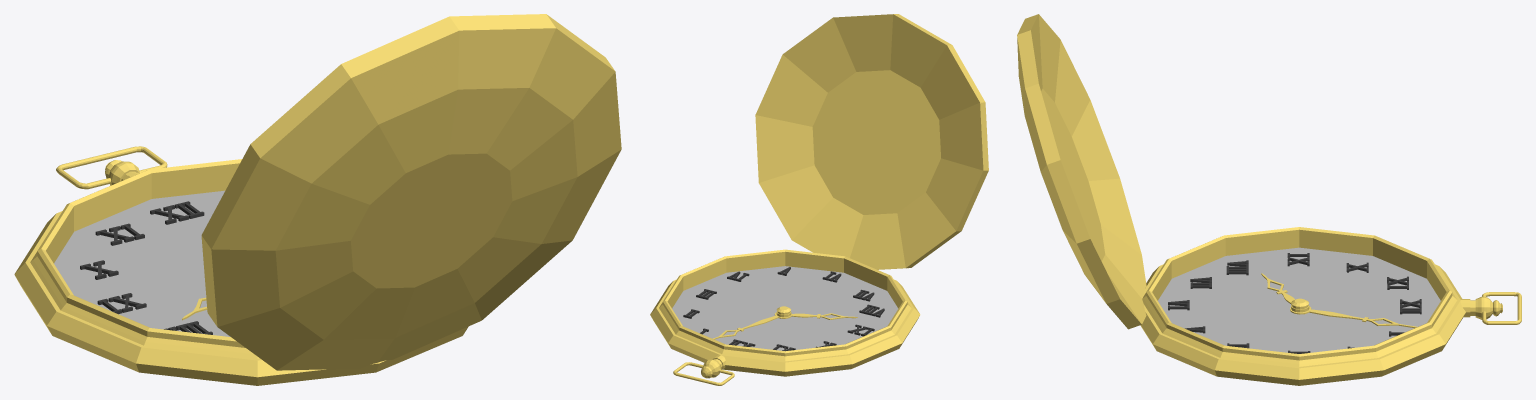
Rendered from SM_Watch.fbx.
3 renders of one model, left to right at view 1: azimuth 30°, elevation 25°; view 2: azimuth 150°, elevation 25°; view 3: azimuth 270°, elevation 25°, orthographic. The views are drawn at different scales.
Visible parts, largest first — view 1: Watch; view 2: Watch; view 3: Watch.
Boxes of the visible parts, x1=… form: Watch: x1=14, y1=14, x2=621, y2=385; Watch: x1=650, y1=14, x2=988, y2=385; Watch: x1=1017, y1=14, x2=1521, y2=385.
Bounding box in the file's own units: 205 × 199 × 306.
